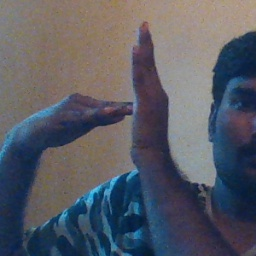Z: (58, 17, 170, 166)
